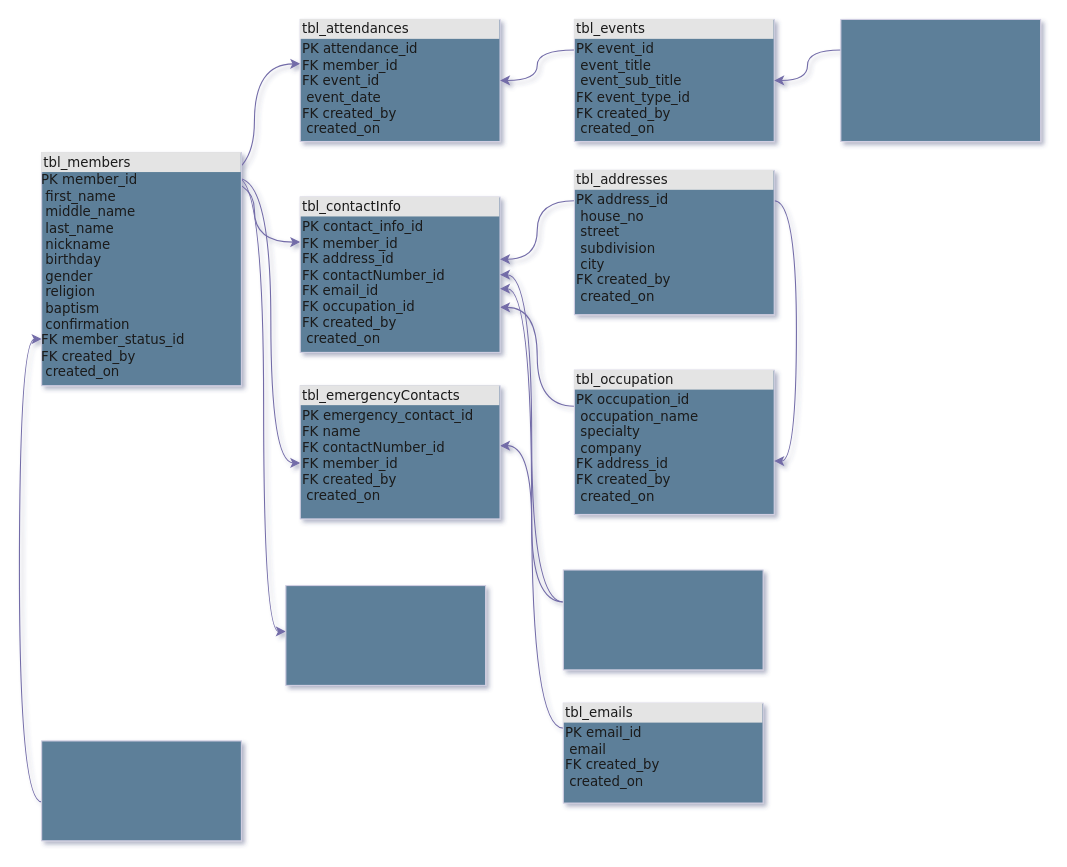
Image size: 1067x867. Some labels were removed from this diagram. The shapes that lost their labels are listed below. From the top down, each one's centre as x and y in pixels, then its label:
At (x=940, y=80): "tbl_eventTypes PK event_type_id event_type_name FK created_by created_on".
At (x=385, y=634): "tbl_memberAccount PK member_account_id FK member_id FK created_by created_on".
At (x=662, y=619): "tbl_contactNumbers PK contactNumber_id mobile FK created_by created_on".
At (x=141, y=790): "tbl_memberStatus PK member_status_id member_status FK created_by created_on".
